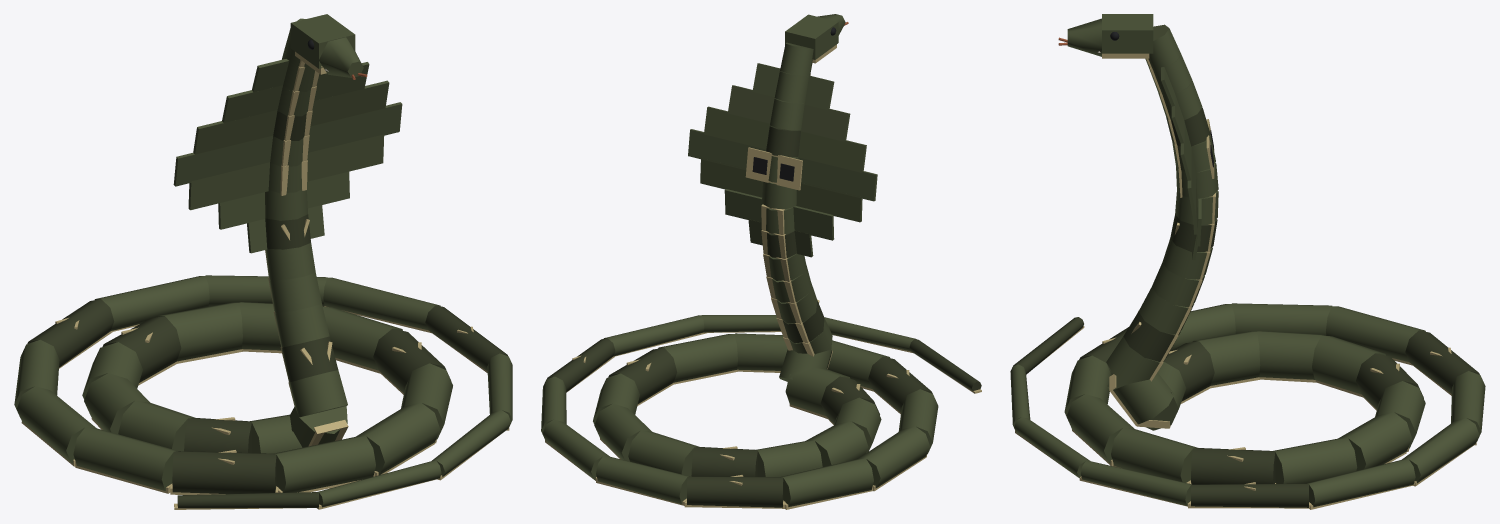
The model's file is king-cobra-reared-strike.glb.
3 views of the same model, side by side, from view 1: azimuth 30°, elevation 25°; view 2: azimuth 150°, elevation 25°; view 3: azimuth 270°, elevation 25° (orthographic). The views are drawn at different scales.
Visible parts, largest first — view 1: Mesh_SegMesh_12, Mesh_SegMesh_13, Mesh_SegMesh_11, Mesh_SegMesh_7, Mesh_SegMesh_19, Mesh_SegMesh_14, Mesh_SegMesh_5, Mesh_SegMesh_10, Mesh_HoodFlapL_35, Mesh_SegMesh_8, Mesh_SegMesh_17, Mesh_HoodFlapR_35 (+41 smaller); view 2: Mesh_SegMesh_9, Mesh_SegMesh_8, Mesh_SegMesh_7, Mesh_SegMesh_15, Mesh_SegMesh_10, Mesh_SegMesh_19, Mesh_HoodFlapL_35, Mesh_SegMesh_21, Mesh_SegMesh_20, Mesh_HoodFlapL_36, Mesh_SegMesh_3, Mesh_SegMesh_16 (+41 smaller); view 3: Mesh_SegMesh_15, Mesh_SegMesh_17, Mesh_SegMesh_16, Mesh_SegMesh_9, Mesh_SegMesh_5, Mesh_SegMesh_4, Mesh_SegMesh_10, Mesh_SegMesh_22, Mesh_SegMesh_18, Mesh_SegMesh_23, Mesh_SegMesh_3, Mesh_SegMesh_21 (+30 smaller).
Part boxes in pixels (x1,y1,x2,y2): Mesh_SegMesh_12: [172, 451, 276, 493]; Mesh_SegMesh_13: [274, 436, 375, 492]; Mesh_SegMesh_11: [73, 427, 177, 490]; Mesh_SegMesh_7: [94, 276, 209, 330]; Mesh_SegMesh_19: [157, 302, 242, 361]; Mesh_SegMesh_14: [355, 402, 440, 475]; Mesh_SegMesh_5: [323, 277, 440, 329]; Mesh_SegMesh_10: [16, 386, 96, 463]; Mesh_HoodFlapL_35: [173, 135, 272, 186]; Mesh_SegMesh_8: [27, 299, 114, 367]; Mesh_SegMesh_17: [323, 307, 402, 370]; Mesh_HoodFlapR_35: [308, 102, 402, 152]; Mesh_SegMesh_9: [781, 458, 873, 506]; Mesh_SegMesh_8: [687, 476, 783, 507]; Mesh_SegMesh_7: [596, 456, 689, 504]; Mesh_SegMesh_15: [658, 334, 737, 382]; Mesh_SegMesh_10: [857, 426, 929, 488]; Mesh_SegMesh_19: [628, 430, 699, 476]; Mesh_HoodFlapL_35: [798, 157, 877, 201]; Mesh_SegMesh_21: [756, 440, 822, 476]; Mesh_SegMesh_20: [691, 447, 757, 476]; Mesh_HoodFlapL_36: [798, 131, 866, 172]; Mesh_SegMesh_3: [603, 315, 704, 356]; Mesh_SegMesh_16: [608, 348, 677, 403]; Mesh_SegMesh_15: [1111, 427, 1197, 482]; Mesh_SegMesh_17: [1273, 438, 1357, 483]; Mesh_SegMesh_16: [1191, 448, 1275, 484]; Mesh_SegMesh_9: [1326, 306, 1425, 361]; Mesh_SegMesh_5: [1307, 459, 1415, 507]; Mesh_SegMesh_4: [1191, 483, 1308, 507]; Mesh_SegMesh_10: [1231, 303, 1331, 335]; Mesh_SegMesh_22: [1257, 331, 1323, 379]; Mesh_SegMesh_18: [1338, 412, 1411, 470]; Mesh_SegMesh_23: [1192, 331, 1260, 385]; Mesh_SegMesh_3: [1081, 461, 1191, 505]; Mesh_SegMesh_21: [1312, 335, 1385, 394].
Size of the model in its own units: 1.04 by 1.05 by 1.11.
4 materials, 4 textured.
